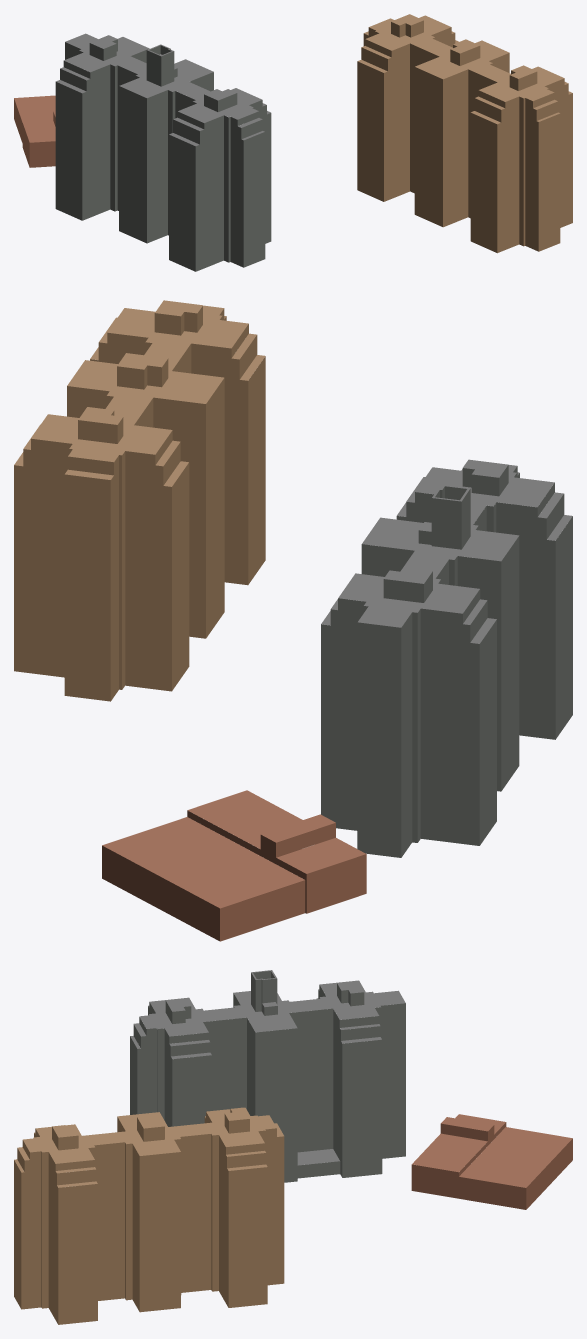
Rendered from tile-8_9.glb.
3 renders of one model, top to bottom at view 1: azimuth 30°, elevation 25°; view 2: azimuth 150°, elevation 25°; view 3: azimuth 270°, elevation 25°, orthographic. The views are drawn at different scales.
Visible parts, largest first — view 1: wall, roof; view 2: wall, roof; view 3: wall, roof.
Boxes of the visible parts, x1,y1,x2,y2 form: wall: (14,20,572,271); roof: (14,14,572,146); wall: (14,306,572,941); roof: (14,300,572,908); wall: (14,971,572,1324); roof: (14,970,572,1187).
Bounding box in the file's own units: 161 × 72.59 × 196.
